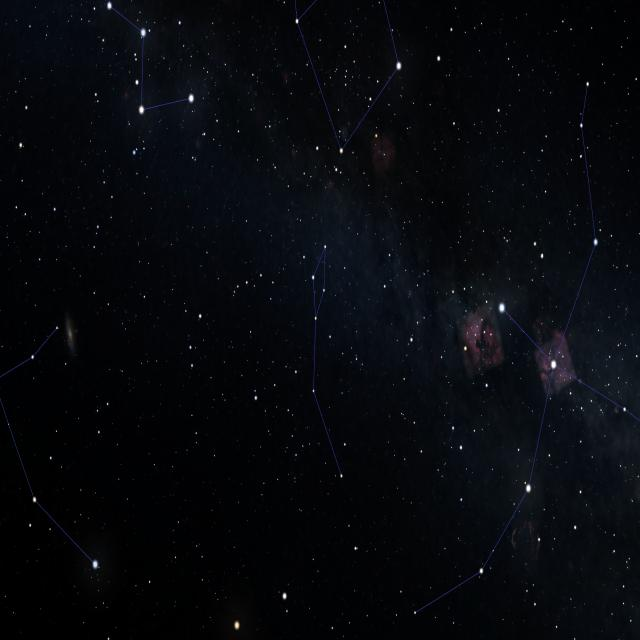Lacerta: (302, 245, 348, 482)
